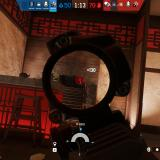Character: (78, 77, 86, 89)
